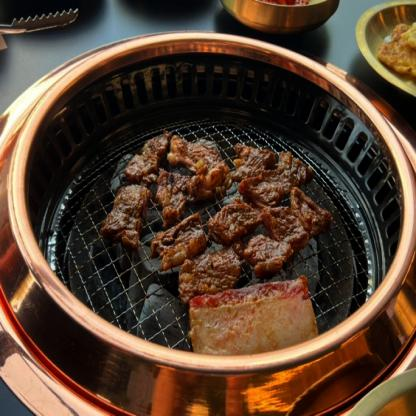Carne: (241, 153, 313, 209), (158, 164, 228, 214), (152, 211, 221, 259), (215, 195, 274, 247), (104, 181, 147, 252), (170, 250, 246, 290), (260, 200, 313, 254), (167, 132, 231, 170), (230, 139, 280, 185), (288, 186, 338, 232), (244, 233, 300, 274), (128, 129, 168, 185)
